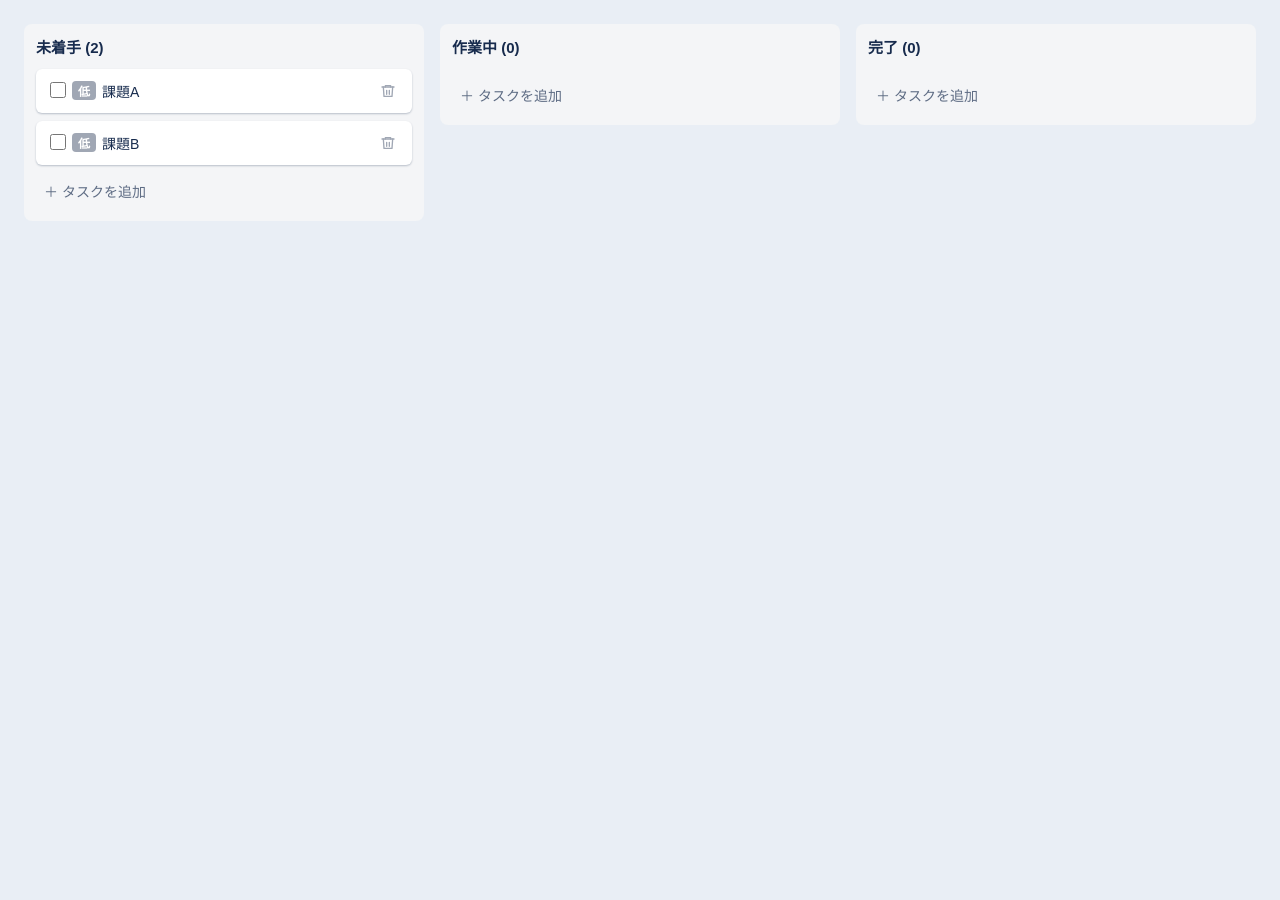
Test case: ボードのゴミ箱マーク › 「キャンセル」や Esc では削除しない
Click the button named "課題A を削除". click: (388, 91)
box: x1=378 y1=81 x2=398 y2=101
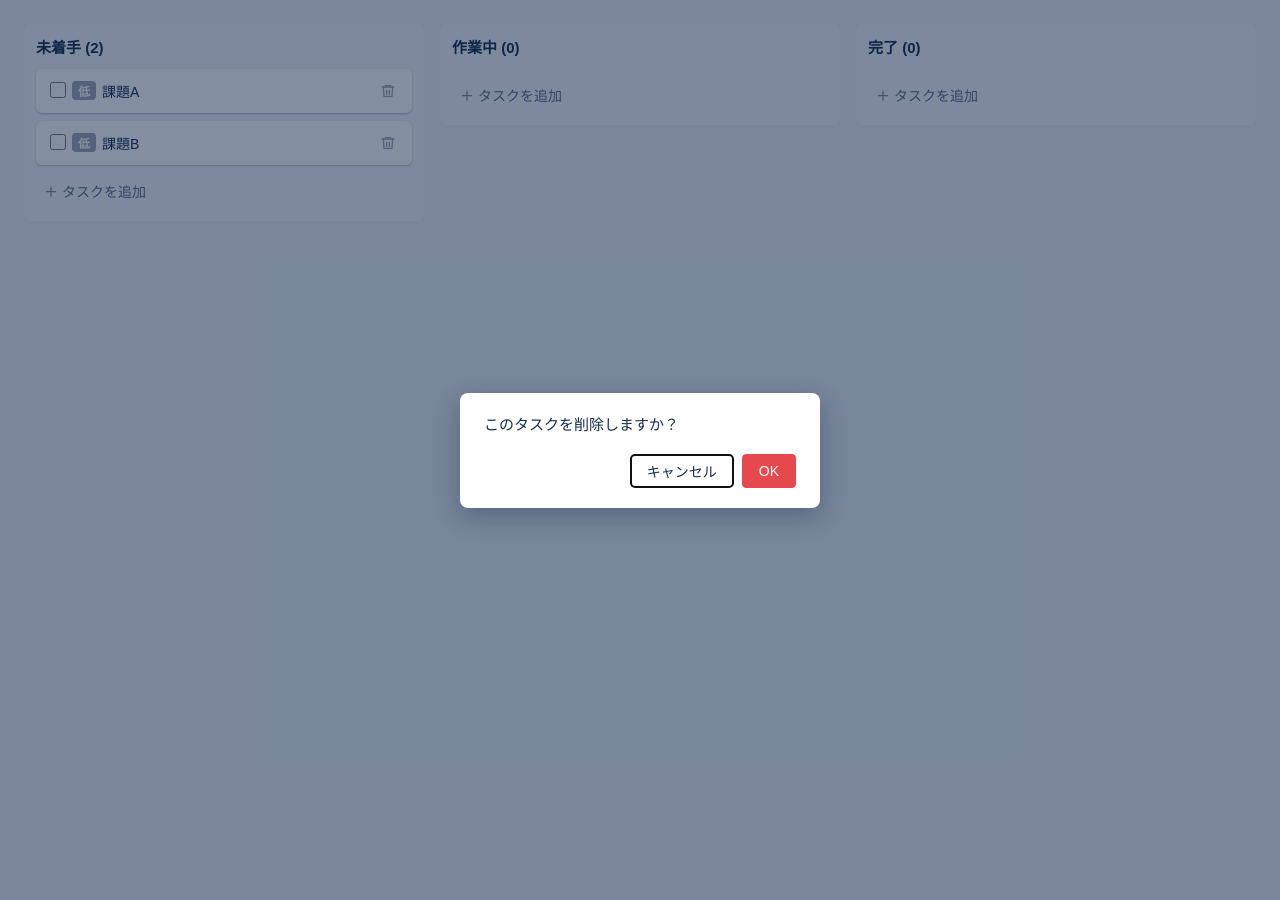
Click the button "キャンセル". click: (682, 470)
box: x1=630 y1=454 x2=734 y2=488
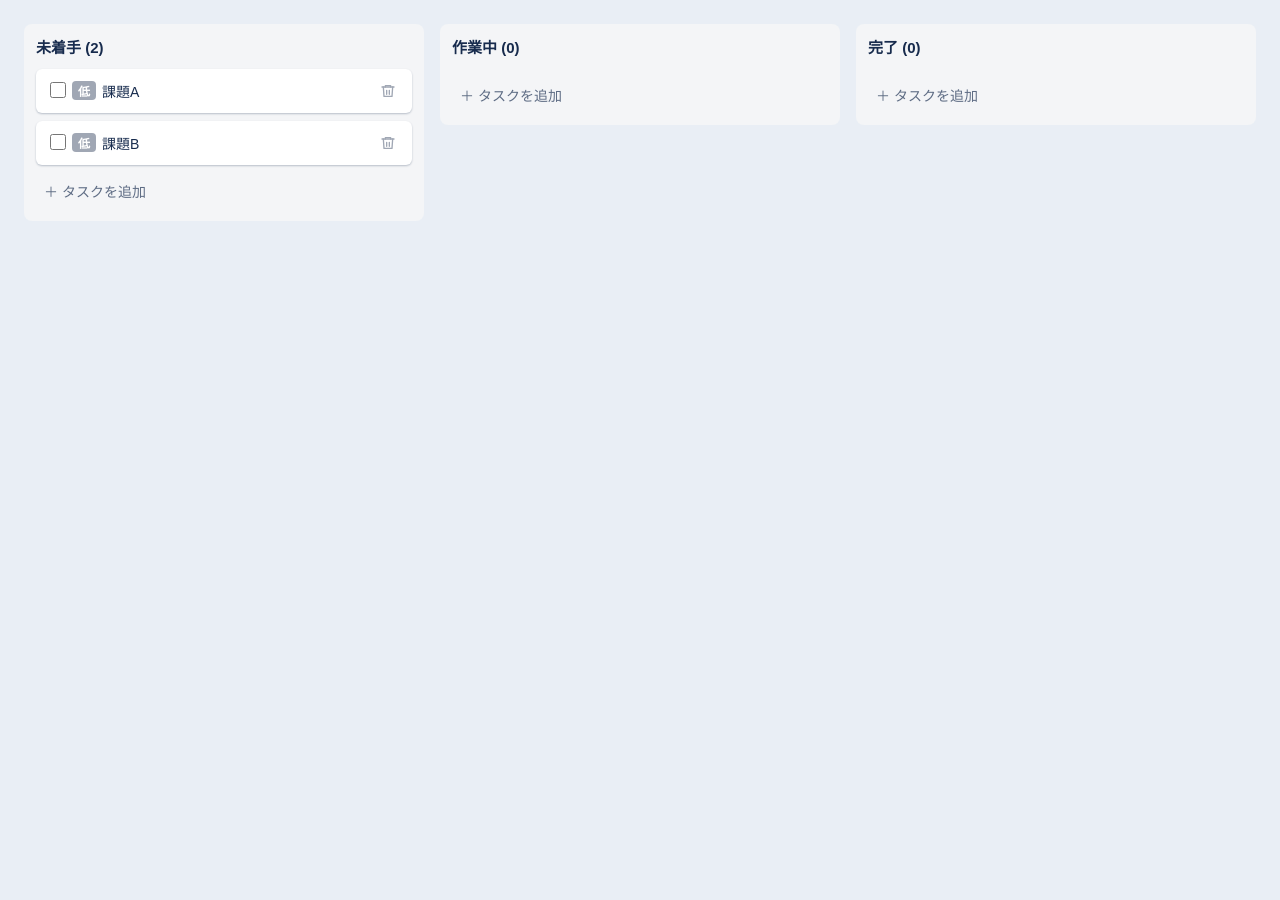
Check: the dialog is gone
Click the button named "課題A を削除". click: (388, 91)
box: x1=378 y1=81 x2=398 y2=101
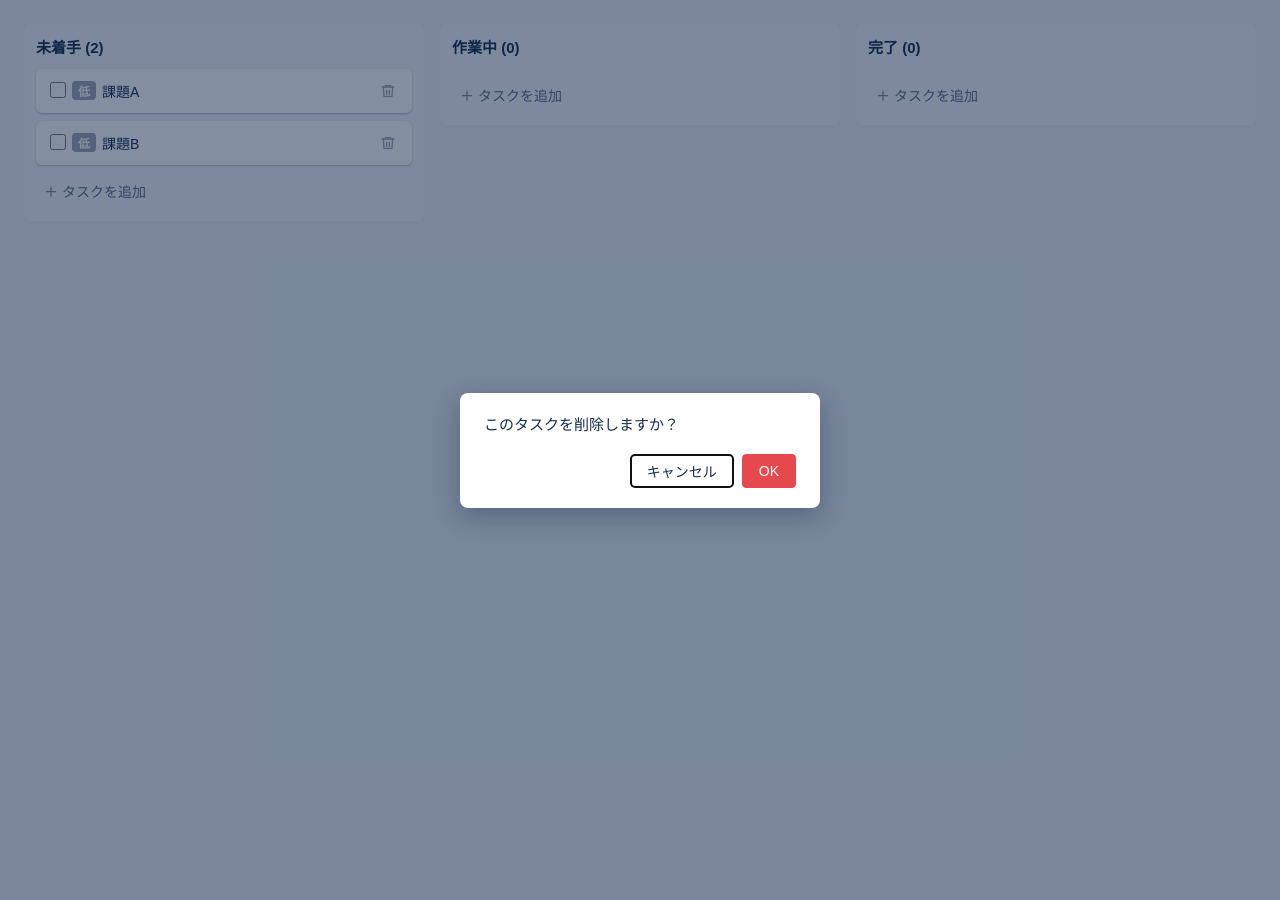
Press Escape
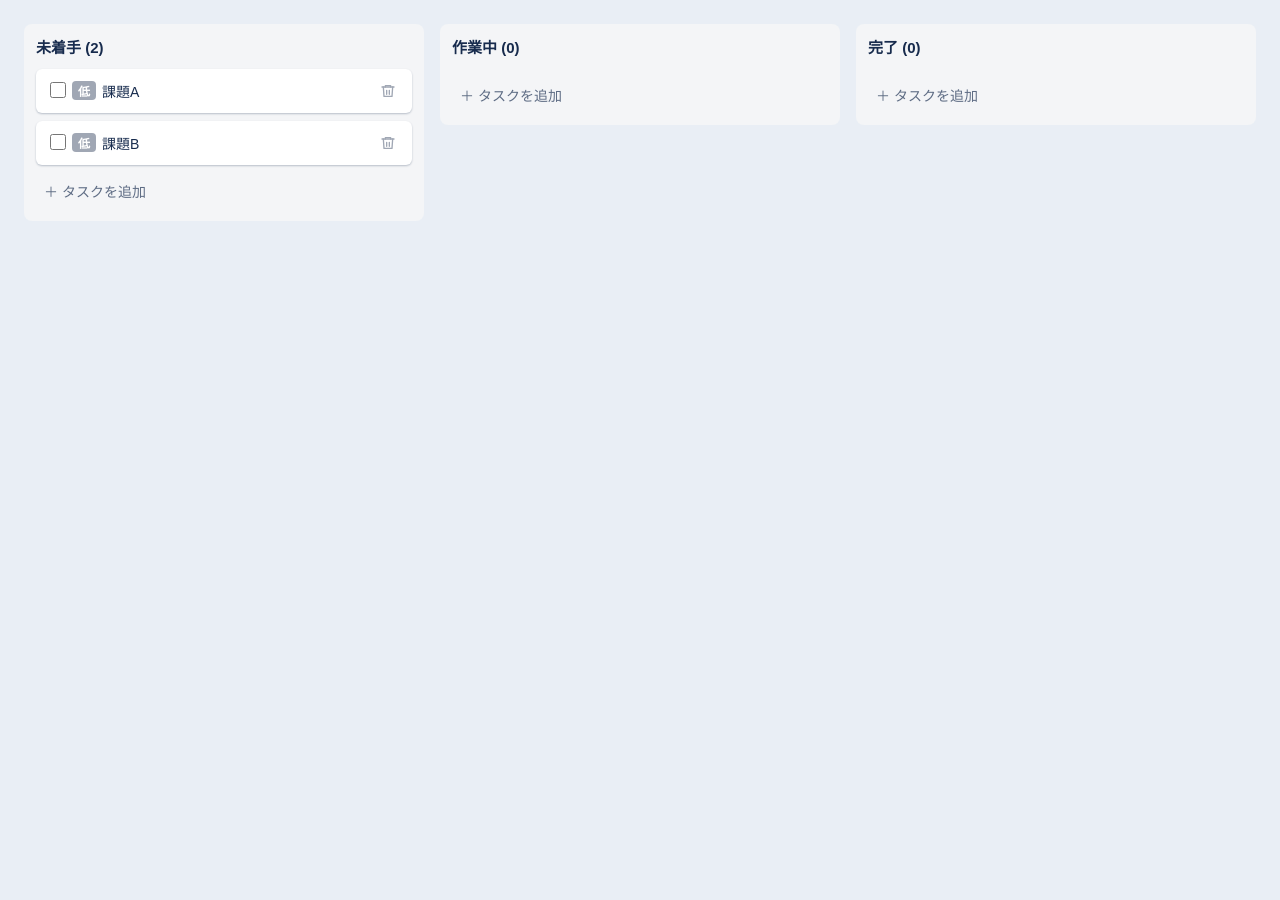
Check: the dialog is gone
